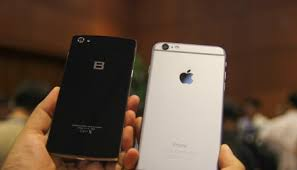bphone: (49, 26, 135, 165)
